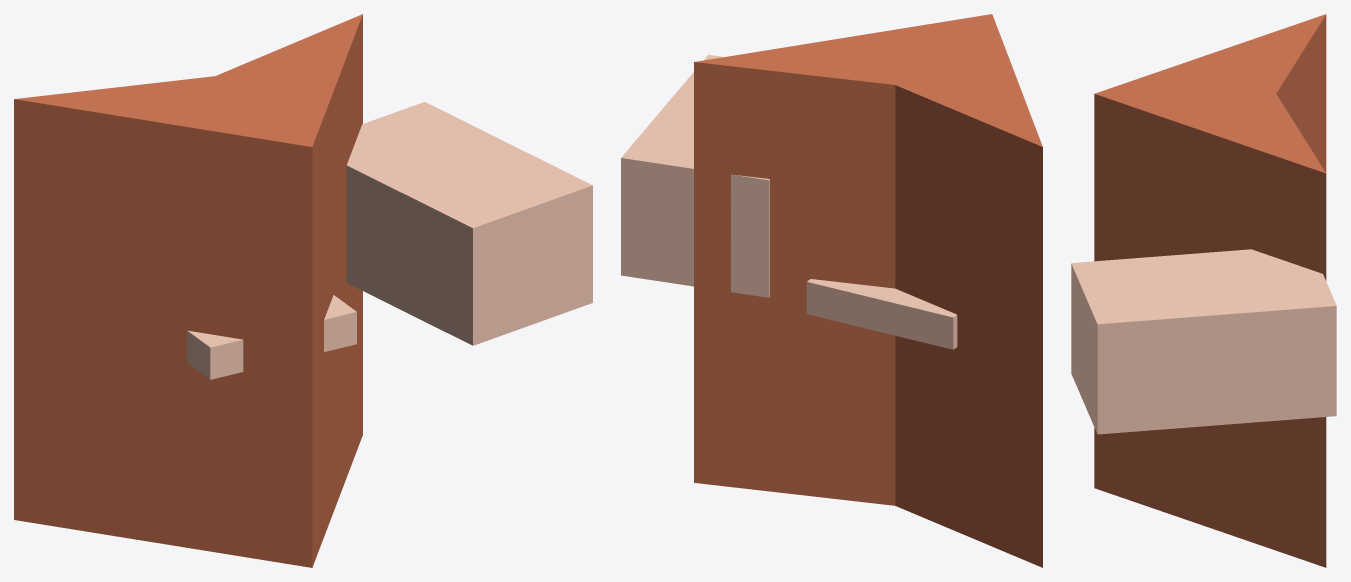
The model's file is flyer-shape-wedge-sensor-dart-v1.glb.
3 renders of one model, left to right at view 1: azimuth 30°, elevation 25°; view 2: azimuth 150°, elevation 25°; view 3: azimuth 270°, elevation 25°, orthographic. The views are drawn at different scales.
Visible parts, largest first — view 1: Wedge Sensor Dart; view 2: Wedge Sensor Dart; view 3: Wedge Sensor Dart.
Part boxes in pixels (x1,y1,x2,y2): Wedge Sensor Dart: (14,14,592,567); Wedge Sensor Dart: (621,14,1042,567); Wedge Sensor Dart: (1071,14,1336,567).
Bounding box in the file's own units: 1.54 × 1.36 × 0.8301.
